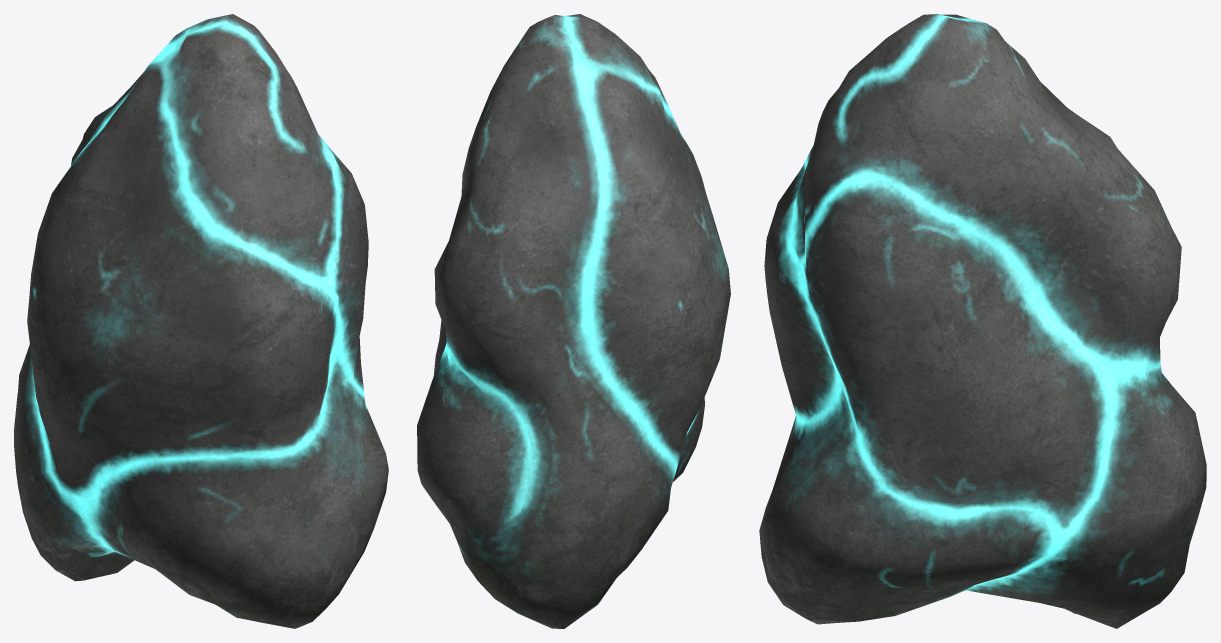
The model's file is fantasy_rock_model (1).glb.
The picture shows the model from 3 angles, left to right: view 1: azimuth 30°, elevation 25°; view 2: azimuth 150°, elevation 25°; view 3: azimuth 270°, elevation 25°; orthographic projection. The views are drawn at different scales.
Parts seen in each view (by area): view 1: PolyRock_low; view 2: PolyRock_low; view 3: PolyRock_low.
Boxes of the visible parts, x1,y1,x2,y2 form: PolyRock_low: (14,14,388,628); PolyRock_low: (417,14,730,628); PolyRock_low: (759,14,1206,628).
Bounding box in the file's own units: 0.3134 × 0.6269 × 0.3979.
1 material, 1 textured.
